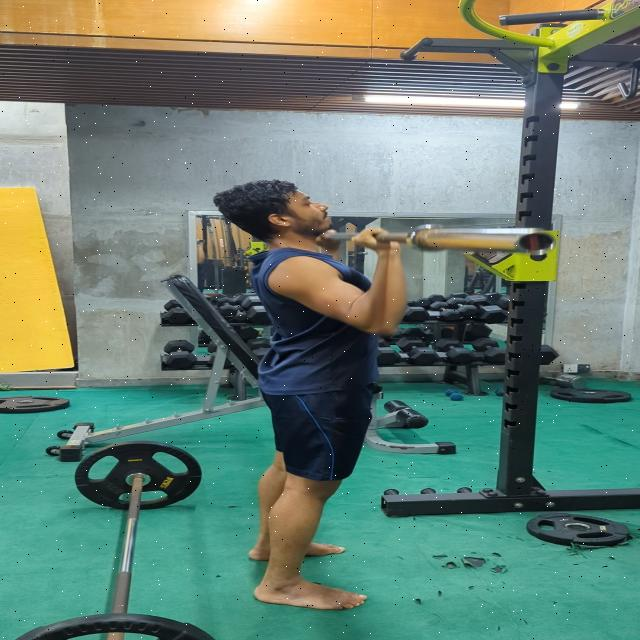Normal_OverheadPress: (198, 158, 415, 614)
